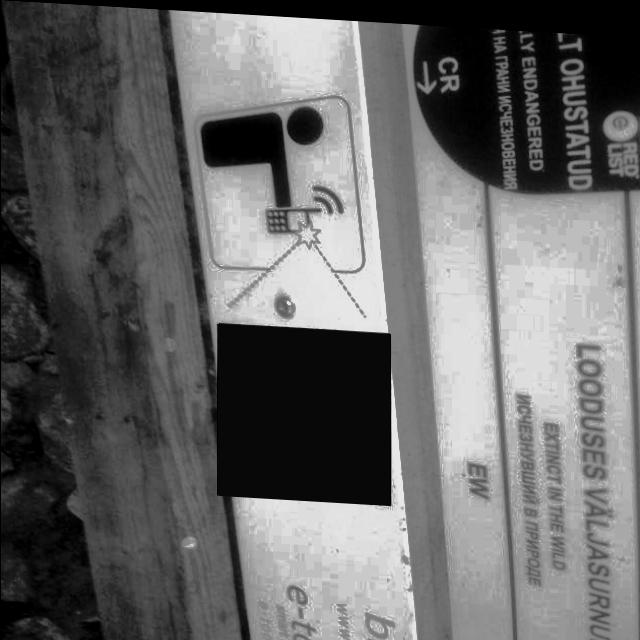qr_code: (217, 320, 389, 501)
